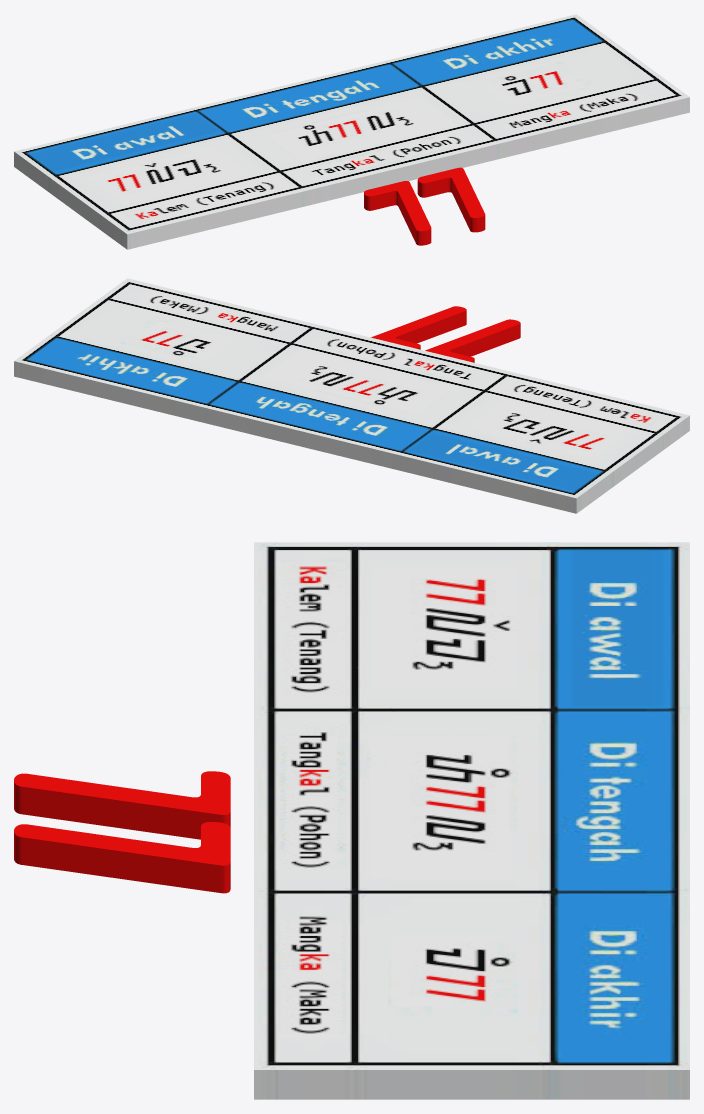
The picture shows the model from 3 angles, top to bottom: view 1: azimuth 30°, elevation 25°; view 2: azimuth 150°, elevation 25°; view 3: azimuth 270°, elevation 25°; orthographic projection. The views are drawn at different scales.
Visible parts, largest first — view 1: contoh-bunyi-huruf-ka-Ngalagena, Text; view 2: contoh-bunyi-huruf-ka-Ngalagena, Text; view 3: contoh-bunyi-huruf-ka-Ngalagena, Text.
Boxes of the visible parts, box(x1,y1,x2,y2) form: contoh-bunyi-huruf-ka-Ngalagena: box(14, 14, 689, 249); Text: box(364, 167, 485, 245); contoh-bunyi-huruf-ka-Ngalagena: box(14, 278, 689, 513); Text: box(371, 306, 520, 362); contoh-bunyi-huruf-ka-Ngalagena: box(254, 542, 689, 1099); Text: box(14, 771, 230, 893).
Bounding box in the file's own units: 2.86 × 0.11 × 1.55.
Materials: 2 (1 with a texture image).
